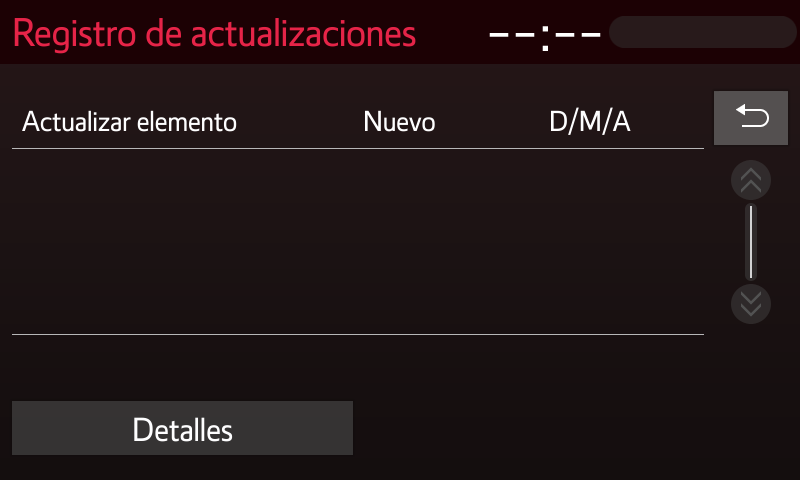touchPart: (8, 392, 358, 460), (707, 84, 791, 152)
untouchPart: (13, 13, 425, 51), (472, 12, 800, 53), (724, 284, 782, 326), (730, 162, 773, 200)
